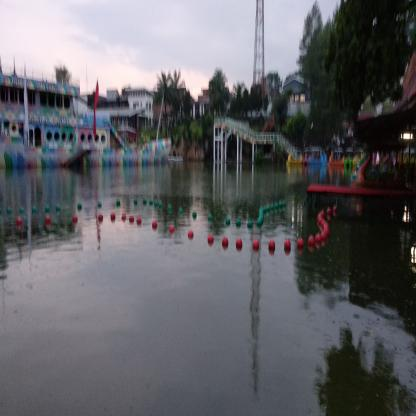green_buoy: (6, 206, 12, 216), (19, 207, 25, 216), (44, 206, 50, 214), (32, 206, 38, 214), (167, 205, 172, 214), (235, 219, 240, 228), (77, 203, 82, 211), (56, 204, 61, 212), (259, 215, 264, 223), (226, 218, 231, 226), (247, 221, 252, 228), (143, 198, 147, 206), (262, 206, 266, 214), (178, 208, 182, 216), (257, 220, 261, 228), (134, 197, 138, 204), (154, 201, 158, 208), (98, 201, 102, 208), (158, 201, 162, 208), (149, 198, 152, 206), (116, 200, 120, 206), (274, 204, 278, 210), (270, 205, 274, 211), (266, 206, 270, 212), (193, 212, 196, 219), (282, 202, 286, 207), (207, 216, 211, 221), (260, 210, 263, 216), (279, 203, 282, 208)
red_buoy: (252, 240, 260, 251), (308, 236, 315, 248), (284, 240, 292, 250), (268, 240, 276, 250), (297, 238, 304, 249), (45, 216, 51, 228), (236, 238, 242, 250), (222, 236, 228, 247), (152, 221, 158, 230), (208, 235, 214, 244), (316, 235, 322, 244), (188, 230, 193, 240), (322, 222, 328, 230), (324, 228, 330, 236), (98, 214, 103, 223), (16, 219, 21, 228), (73, 216, 78, 224), (169, 225, 174, 233), (322, 232, 326, 241), (136, 218, 141, 225), (318, 215, 322, 223), (320, 218, 324, 226), (129, 216, 134, 222), (111, 214, 115, 221), (320, 212, 324, 218), (333, 207, 337, 212), (327, 209, 331, 214), (122, 216, 126, 221)
